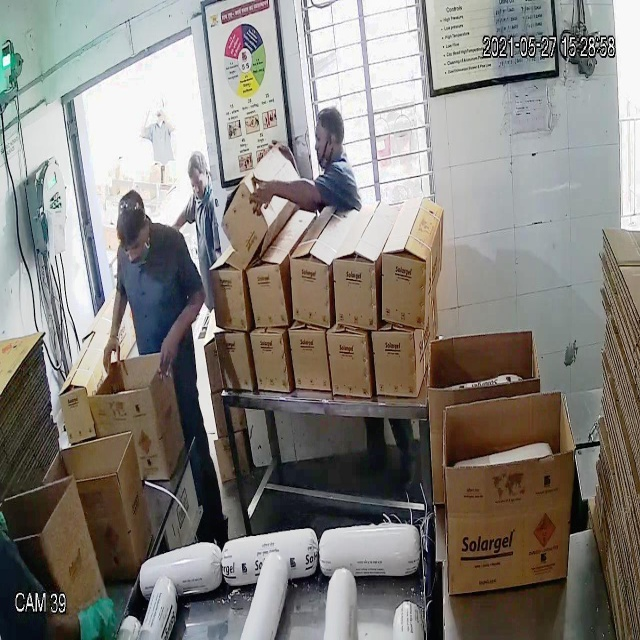Sin_gafas: (116, 235, 149, 264)
